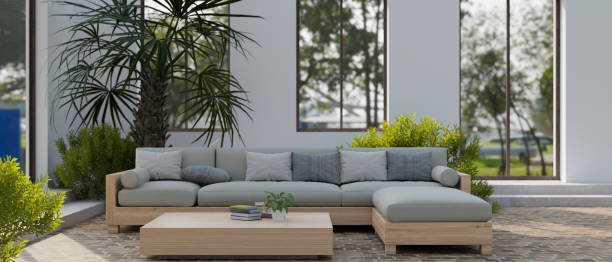large plant: (57, 0, 246, 148)
small plant: (263, 189, 295, 221)
sofa: (102, 145, 496, 259)
table: (138, 208, 334, 260)
